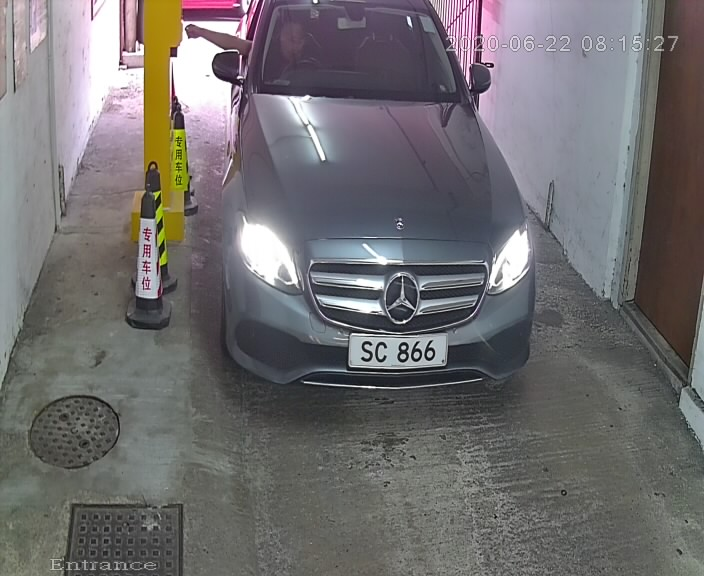privatecar: (193, 1, 556, 431)
